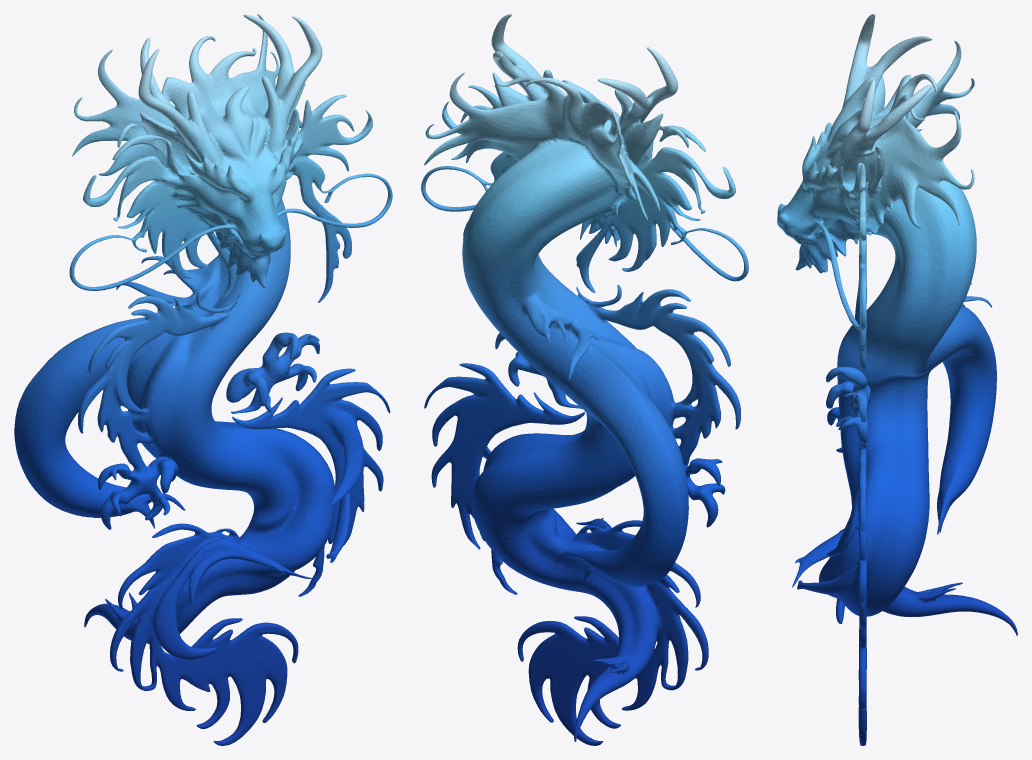
File: Aoki_Dragon_AR_Blue_Fixed.glb
3 views of the same model, side by side, from view 1: azimuth 30°, elevation 25°; view 2: azimuth 150°, elevation 25°; view 3: azimuth 270°, elevation 25° (orthographic). The views are drawn at different scales.
Visible parts, largest first — view 1: world; view 2: world; view 3: world.
Boxes of the visible parts, x1=… form: world: x1=14, y1=14, x2=392, y2=745; world: x1=421, y1=14, x2=748, y2=745; world: x1=777, y1=14, x2=1017, y2=745.
Bounding box in the file's own units: 0.9059 × 1.9 × 0.5952.
Materials: 1 (1 with a texture image).
